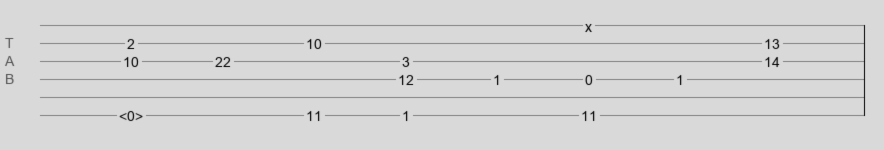0: (585, 72, 593, 82)
1: (402, 108, 410, 118), (493, 72, 501, 82), (676, 72, 684, 82)
10: (123, 54, 139, 64), (306, 36, 322, 46)
11: (306, 108, 322, 118), (581, 108, 597, 118)
12: (398, 72, 414, 82)
13: (764, 36, 780, 46)
14: (764, 54, 780, 64)
2: (127, 36, 135, 46)
22: (215, 54, 231, 64)
3: (402, 54, 410, 64)
harmonic: (119, 108, 143, 118)
x: (585, 19, 592, 27)
